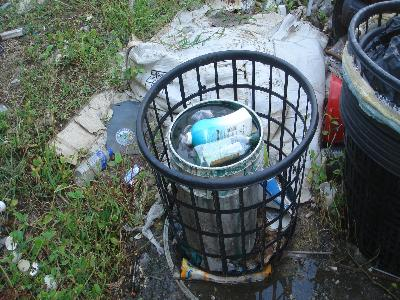bottle: (182, 108, 252, 143), (70, 148, 115, 187)
plastic_bag: (168, 7, 324, 56), (359, 19, 398, 100)
